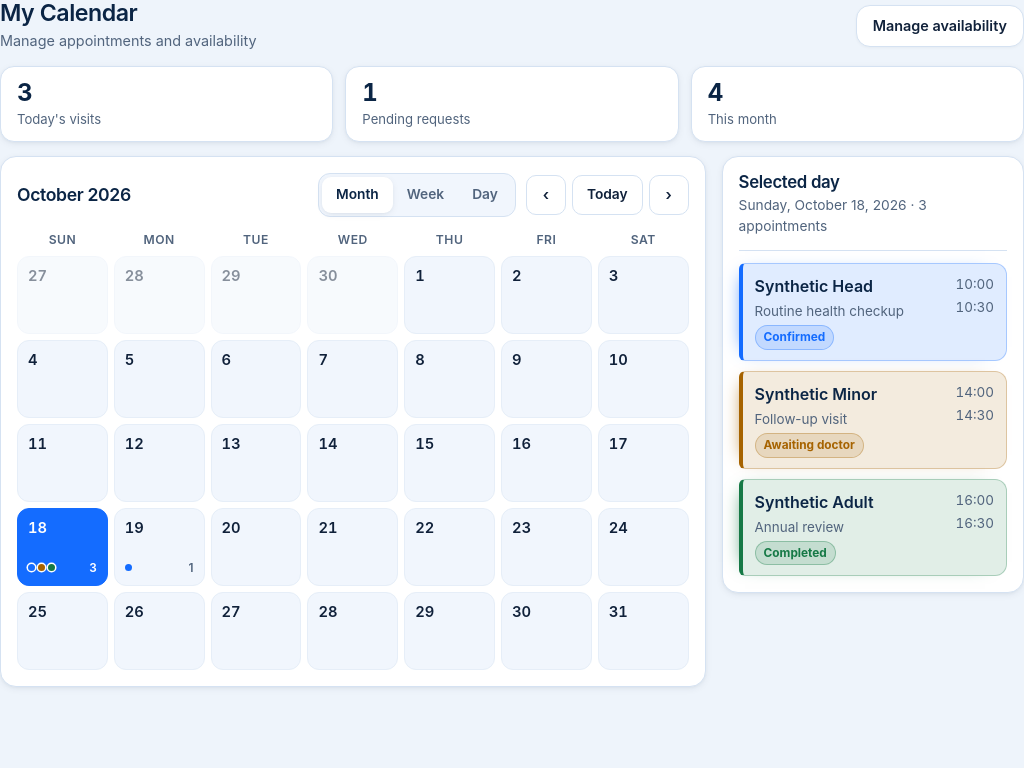
Scenario: DoctorCalendarPage › keeps the old status and shows the server error when an action is rejected
What coordinates should you click on to do the following:
click the button "Synthetic Minor"
I would click on:
 (816, 394)
Its box is [739,370,1007,468].
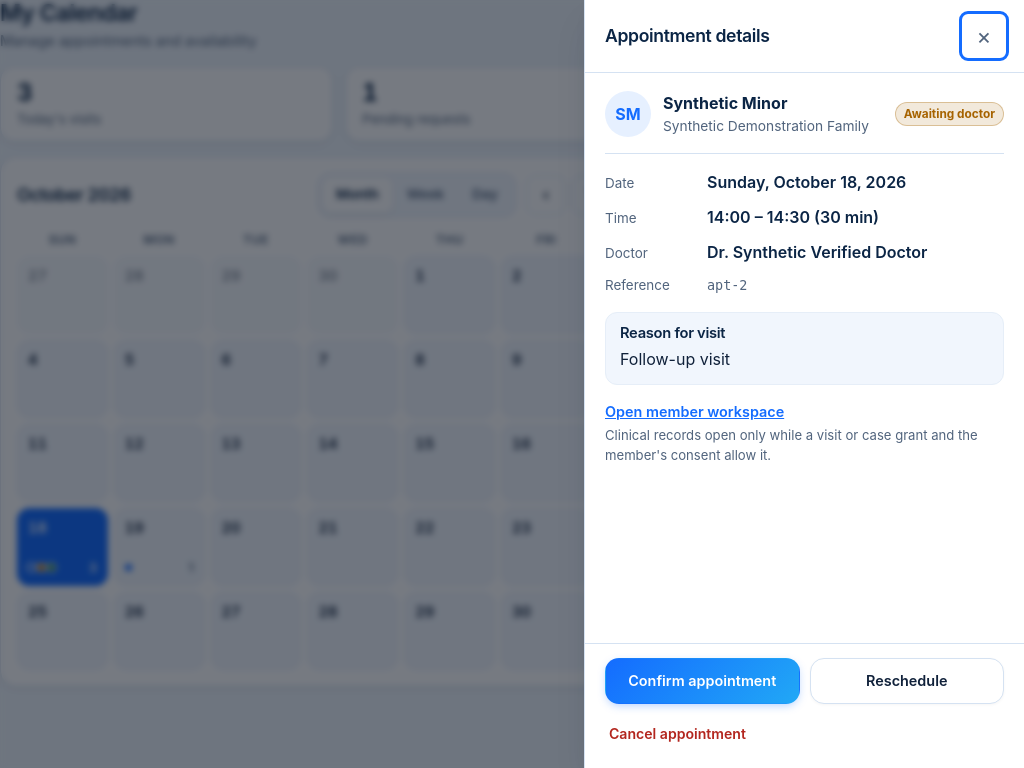
What coordinates should you click on to do the following:
click the button "Confirm appointment"
I would click on:
 (702, 681)
Its box is [605,658,800,704].
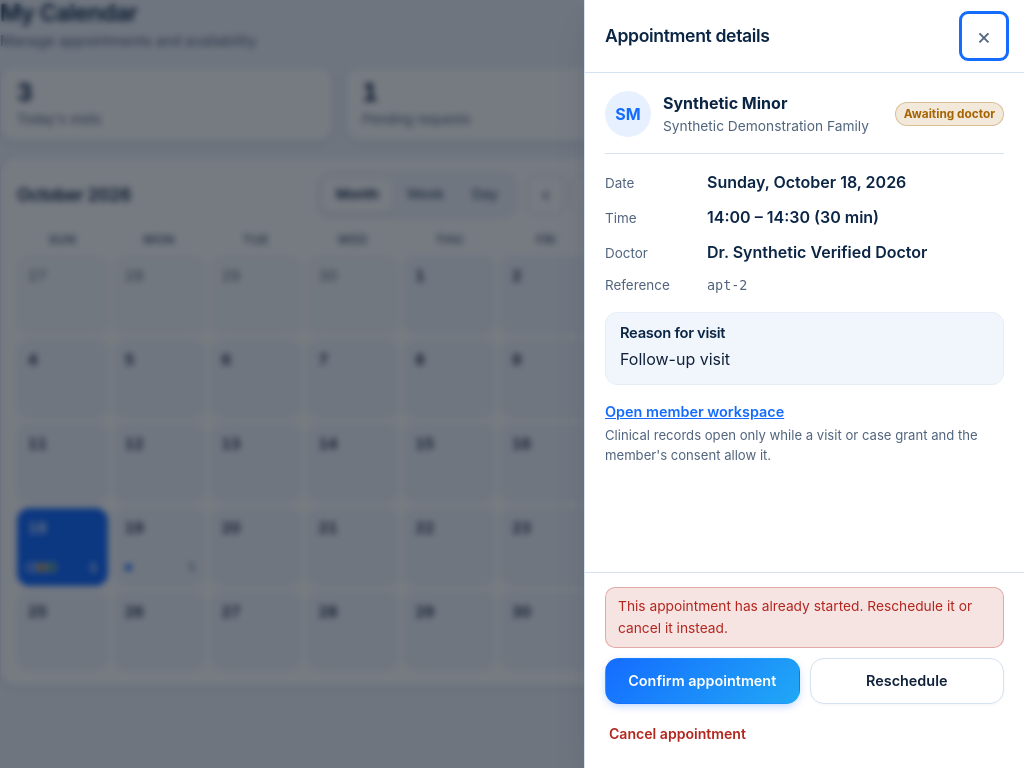
Result: the button "Confirm appointment" is shown at [605,658,800,704]
Result: the message shows "This appointment has already started" at [618,598,972,636]
